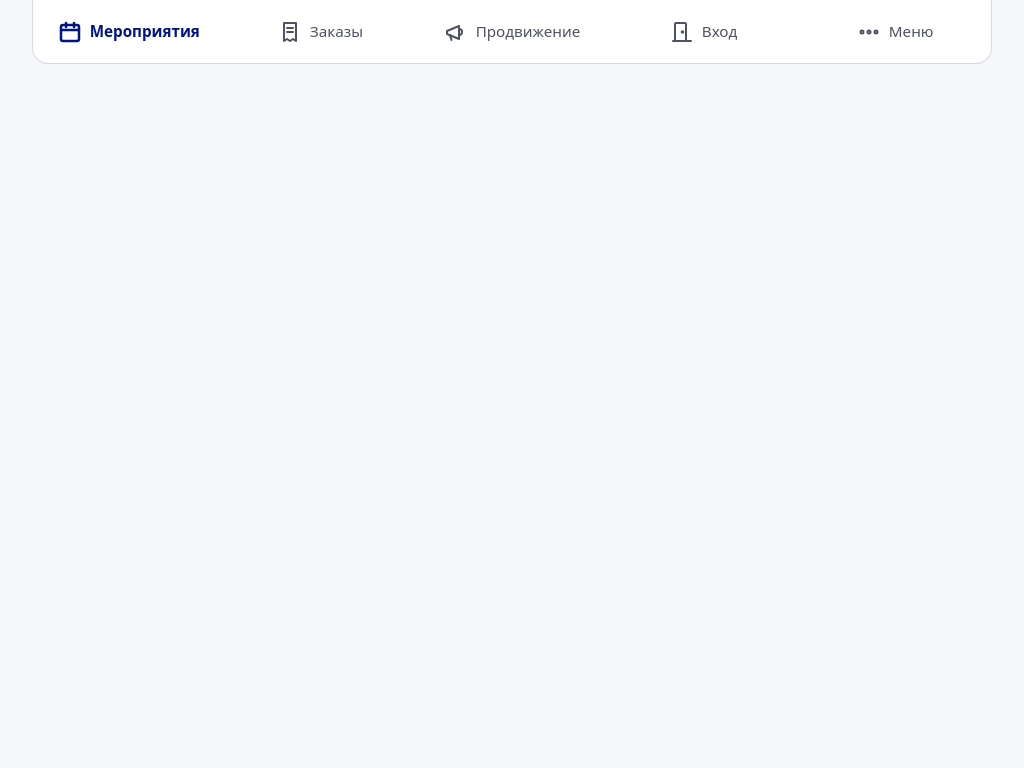
Test: Menu › opens the Promotion sheet with the promotion items alone
Click the button with test id "nav-promotion": point(512, 32) left=416, top=0, right=608, bottom=63
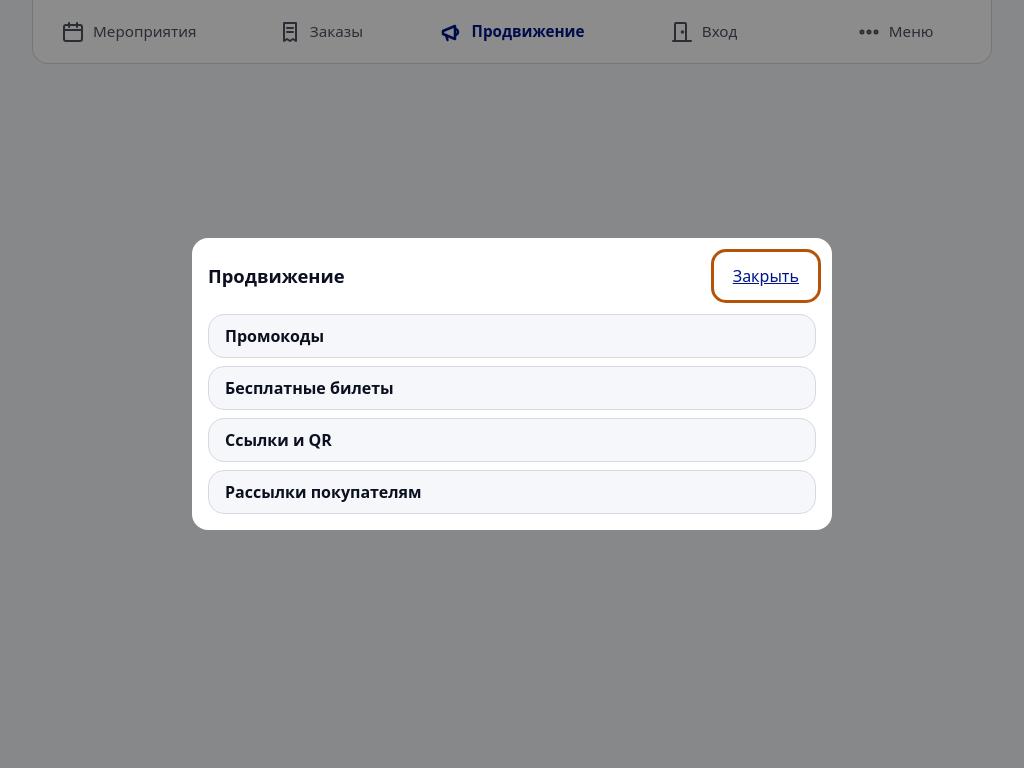
Click the button with test id "promotion-close": point(766, 276) left=716, top=254, right=816, bottom=298
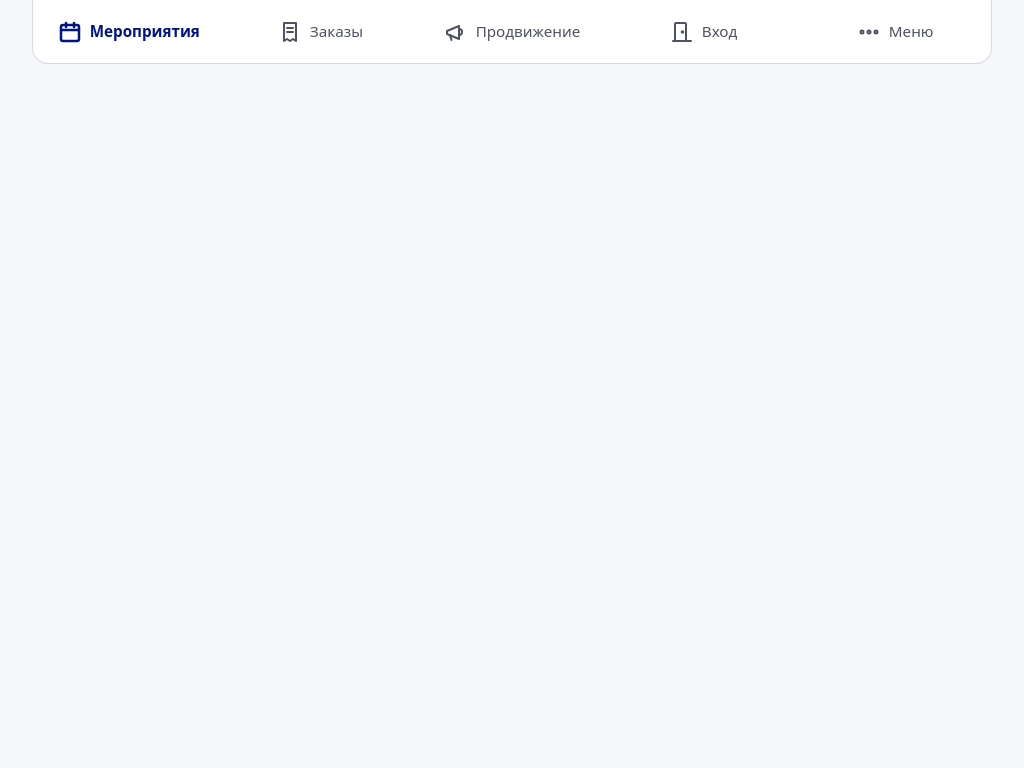
Now the dialog with test id "promotion-sheet" is gone
